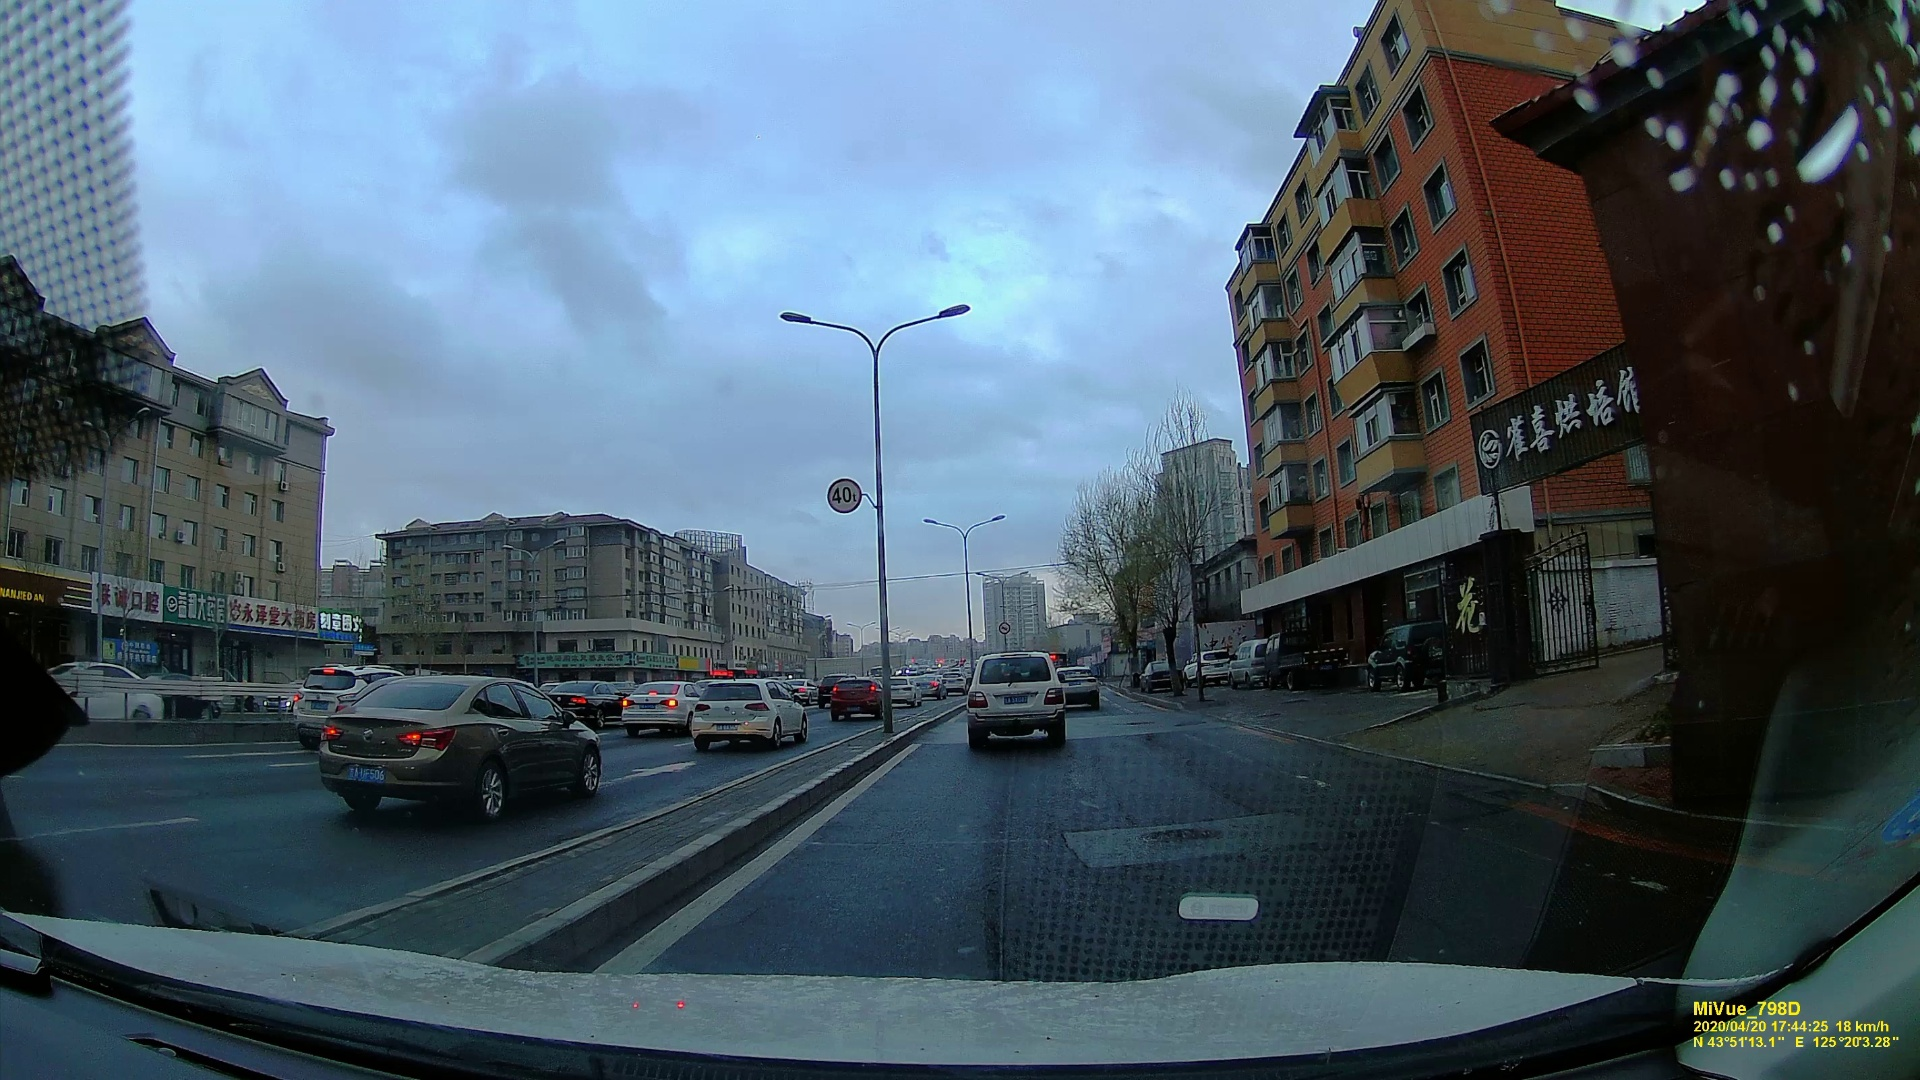traffic_sign: (824, 479, 858, 513)
truck: (1263, 632, 1350, 690)
vehicle: (301, 666, 616, 820), (963, 647, 1067, 752), (287, 659, 396, 750), (686, 678, 808, 749), (1365, 626, 1455, 690), (622, 682, 688, 735), (825, 676, 893, 721)
